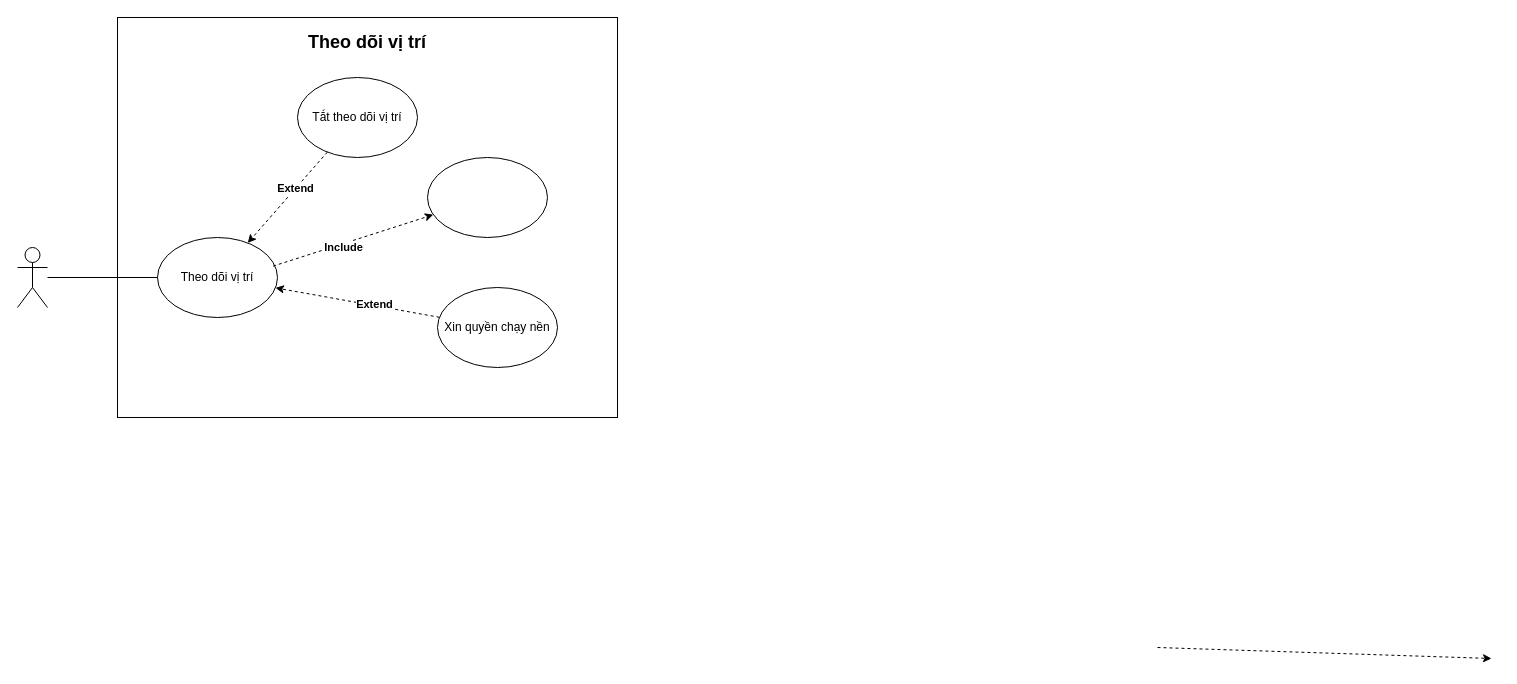
This 1517x684 diagram has some shape labels left out. The shapes that lost their labels are listed below. From the top down, each one's centre as x and y in pixels, then its label:
the point at 487,197: Xin quyền truy cập
the point at 32,277: Actor
